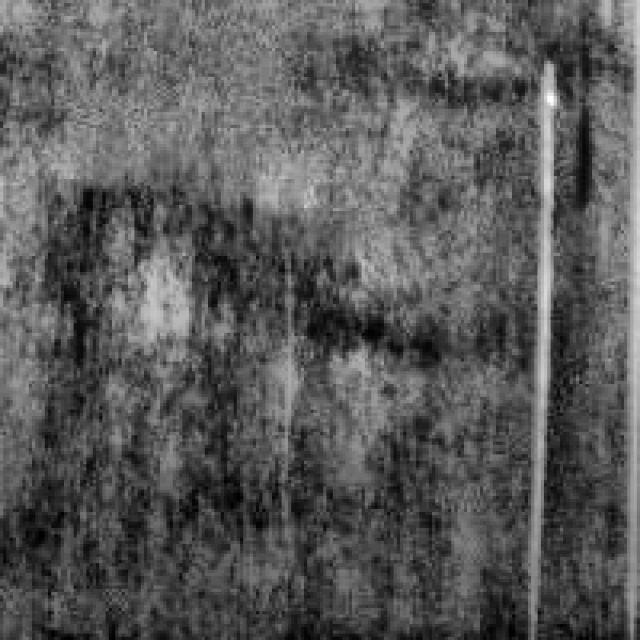Inclusion: (518, 48, 566, 557)
